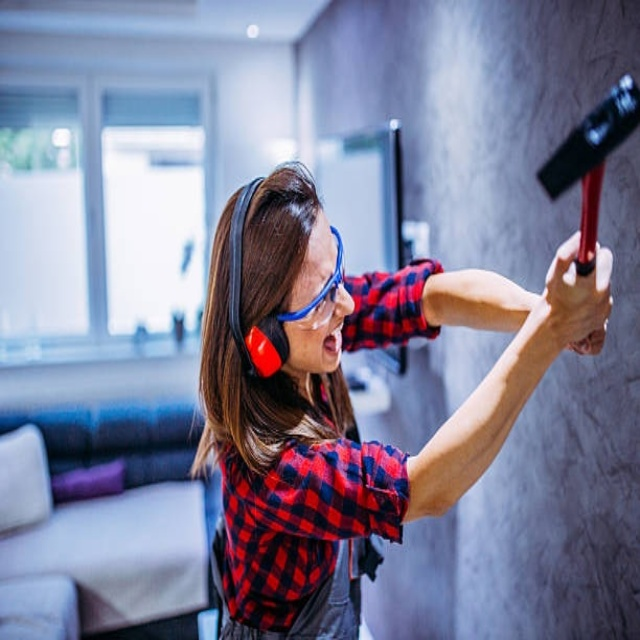Gafas: (273, 226, 344, 328)
Sin_guantes: (540, 230, 615, 354)
Sin_mascara: (314, 317, 348, 369)
